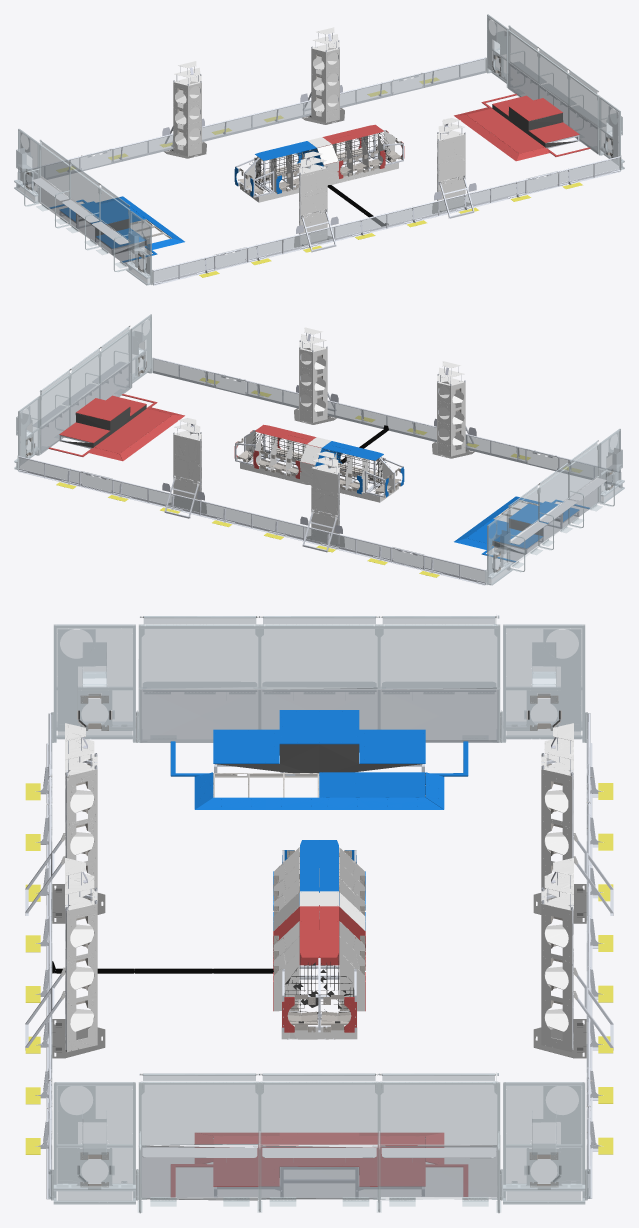
Rendered from field-2019-BiufUyQ8.glb.
The picture shows the model from 3 angles, top to bottom: view 1: azimuth 30°, elevation 25°; view 2: azimuth 150°, elevation 25°; view 3: azimuth 270°, elevation 25°; orthographic projection. The views are drawn at different scales.
Visible parts, largest first — view 1: curtain_short (×2), FE-00008, GE-19101, GE-19118-03, GE-19038 (×2), FE-00004-01, GE-19122, GE-19026, FE-00004-06, FE-00001-05, GE-19044, FE-00015 (+7 smaller); view 2: curtain_short (×2), FE-00008, GE-19101, GE-19118-03, GE-19038 (×2), FE-00004-01, GE-19122, GE-19026, FE-00004-06, FE-00001-05, GE-19044, FE-00001-01 (+7 smaller); view 3: curtain_short (×2), FE-00004-01, GE-19038 (×2), GE-19101, GE-19118-03, GE-19122, FE-00004-06, FE-00001-01, GE-19026, FE-00001-05, FE-00015, GE-19077 (+7 smaller).
Boxes of the visible parts, bbox=[...] form: curtain_short (×2): bbox=[14, 14, 624, 285]; FE-00008: bbox=[26, 58, 619, 282]; GE-19101: bbox=[174, 27, 613, 244]; GE-19118-03: bbox=[18, 33, 620, 285]; GE-19038 (×2): bbox=[50, 94, 590, 262]; FE-00004-01: bbox=[41, 62, 597, 266]; GE-19122: bbox=[173, 48, 459, 239]; GE-19026: bbox=[25, 53, 612, 272]; FE-00004-06: bbox=[32, 61, 606, 244]; FE-00001-05: bbox=[17, 144, 153, 284]; GE-19044: bbox=[79, 105, 577, 253]; FE-00015: bbox=[56, 77, 582, 277]; curtain_short (×2): bbox=[14, 314, 624, 585]; FE-00008: bbox=[19, 359, 616, 581]; GE-19101: bbox=[25, 327, 464, 544]; GE-19118-03: bbox=[18, 333, 619, 585]; GE-19038 (×2): bbox=[48, 394, 589, 562]; FE-00004-01: bbox=[41, 362, 597, 563]; GE-19122: bbox=[175, 348, 465, 539]; GE-19026: bbox=[26, 353, 613, 572]; FE-00004-06: bbox=[32, 361, 606, 544]; FE-00001-05: bbox=[485, 444, 621, 584]; GE-19044: bbox=[60, 405, 559, 553]; FE-00001-01: bbox=[17, 330, 152, 470]; curtain_short (×2): bbox=[51, 615, 587, 1204]; FE-00004-01: bbox=[140, 689, 498, 1199]; GE-19038 (×2): bbox=[170, 710, 468, 1197]; GE-19101: bbox=[60, 710, 578, 1181]; GE-19118-03: bbox=[25, 713, 613, 1199]; GE-19122: bbox=[66, 756, 572, 1052]; FE-00004-06: bbox=[142, 681, 496, 1158]; FE-00001-01: bbox=[48, 1081, 590, 1213]; GE-19026: bbox=[46, 693, 592, 1189]; FE-00001-05: bbox=[48, 624, 590, 742]; FE-00015: bbox=[25, 783, 613, 1154]; GE-19077: bbox=[273, 905, 365, 1032].
Size of the model in its own units: 17.7 by 2.91 by 9.
